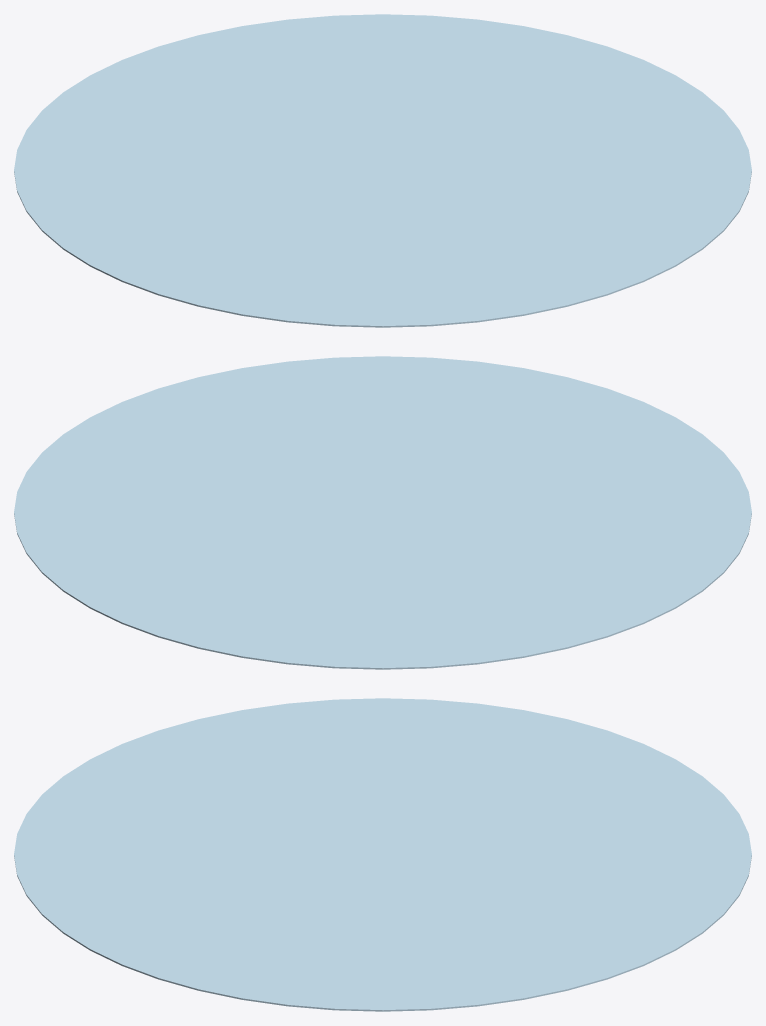
File: FLOOR.glb
3 views of the same model, one above another, from view 1: azimuth 30°, elevation 25°; view 2: azimuth 150°, elevation 25°; view 3: azimuth 270°, elevation 25° (orthographic).
Parts seen in each view (by area): view 1: FLOOR; view 2: FLOOR; view 3: FLOOR.
Boxes of the visible parts, bbox=[...] form: FLOOR: bbox=[14, 14, 751, 327]; FLOOR: bbox=[14, 356, 751, 669]; FLOOR: bbox=[14, 698, 751, 1011].
Bounding box in the file's own units: 79 × 0.18 × 79.
